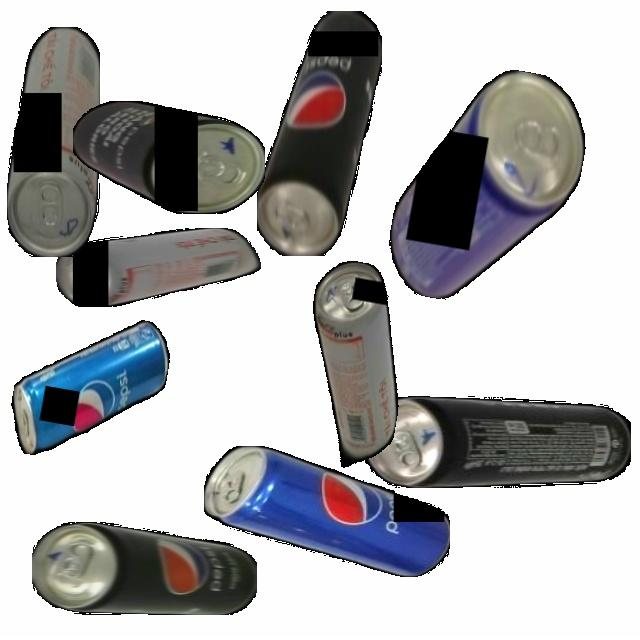debris: (381, 54, 596, 319), (203, 446, 450, 577), (256, 10, 382, 256), (286, 256, 422, 475), (4, 301, 175, 475), (365, 395, 631, 488), (72, 101, 265, 214), (6, 26, 100, 257), (32, 521, 257, 615), (56, 227, 261, 307)
